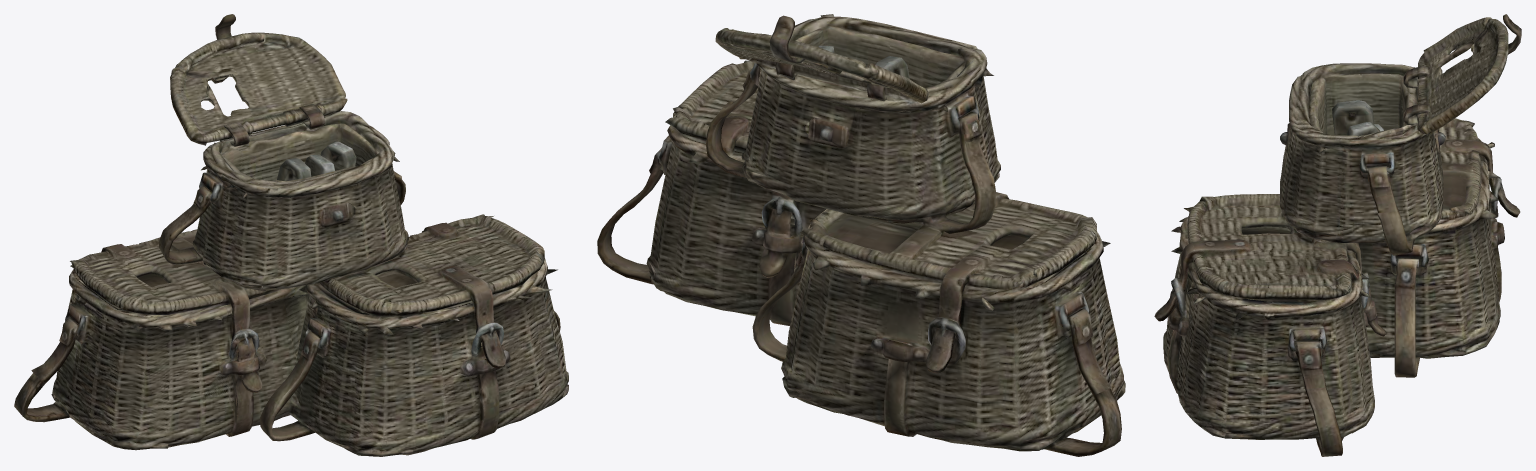
Rendered from kit_creel_stack_hero.glb.
3 renders of one model, left to right at view 1: azimuth 30°, elevation 25°; view 2: azimuth 150°, elevation 25°; view 3: azimuth 270°, elevation 25°, orthographic. The views are drawn at different scales.
Parts seen in each view (by area): view 1: kit_creel_stack_hero; view 2: kit_creel_stack_hero; view 3: kit_creel_stack_hero.
Boxes of the visible parts, x1,y1,x2,y2 form: kit_creel_stack_hero: (14,14,568,456); kit_creel_stack_hero: (597,14,1125,456); kit_creel_stack_hero: (1154,14,1521,456).
Bounding box in the file's own units: 1.4 × 0.9233 × 0.9123.
1 material, 1 textured.
